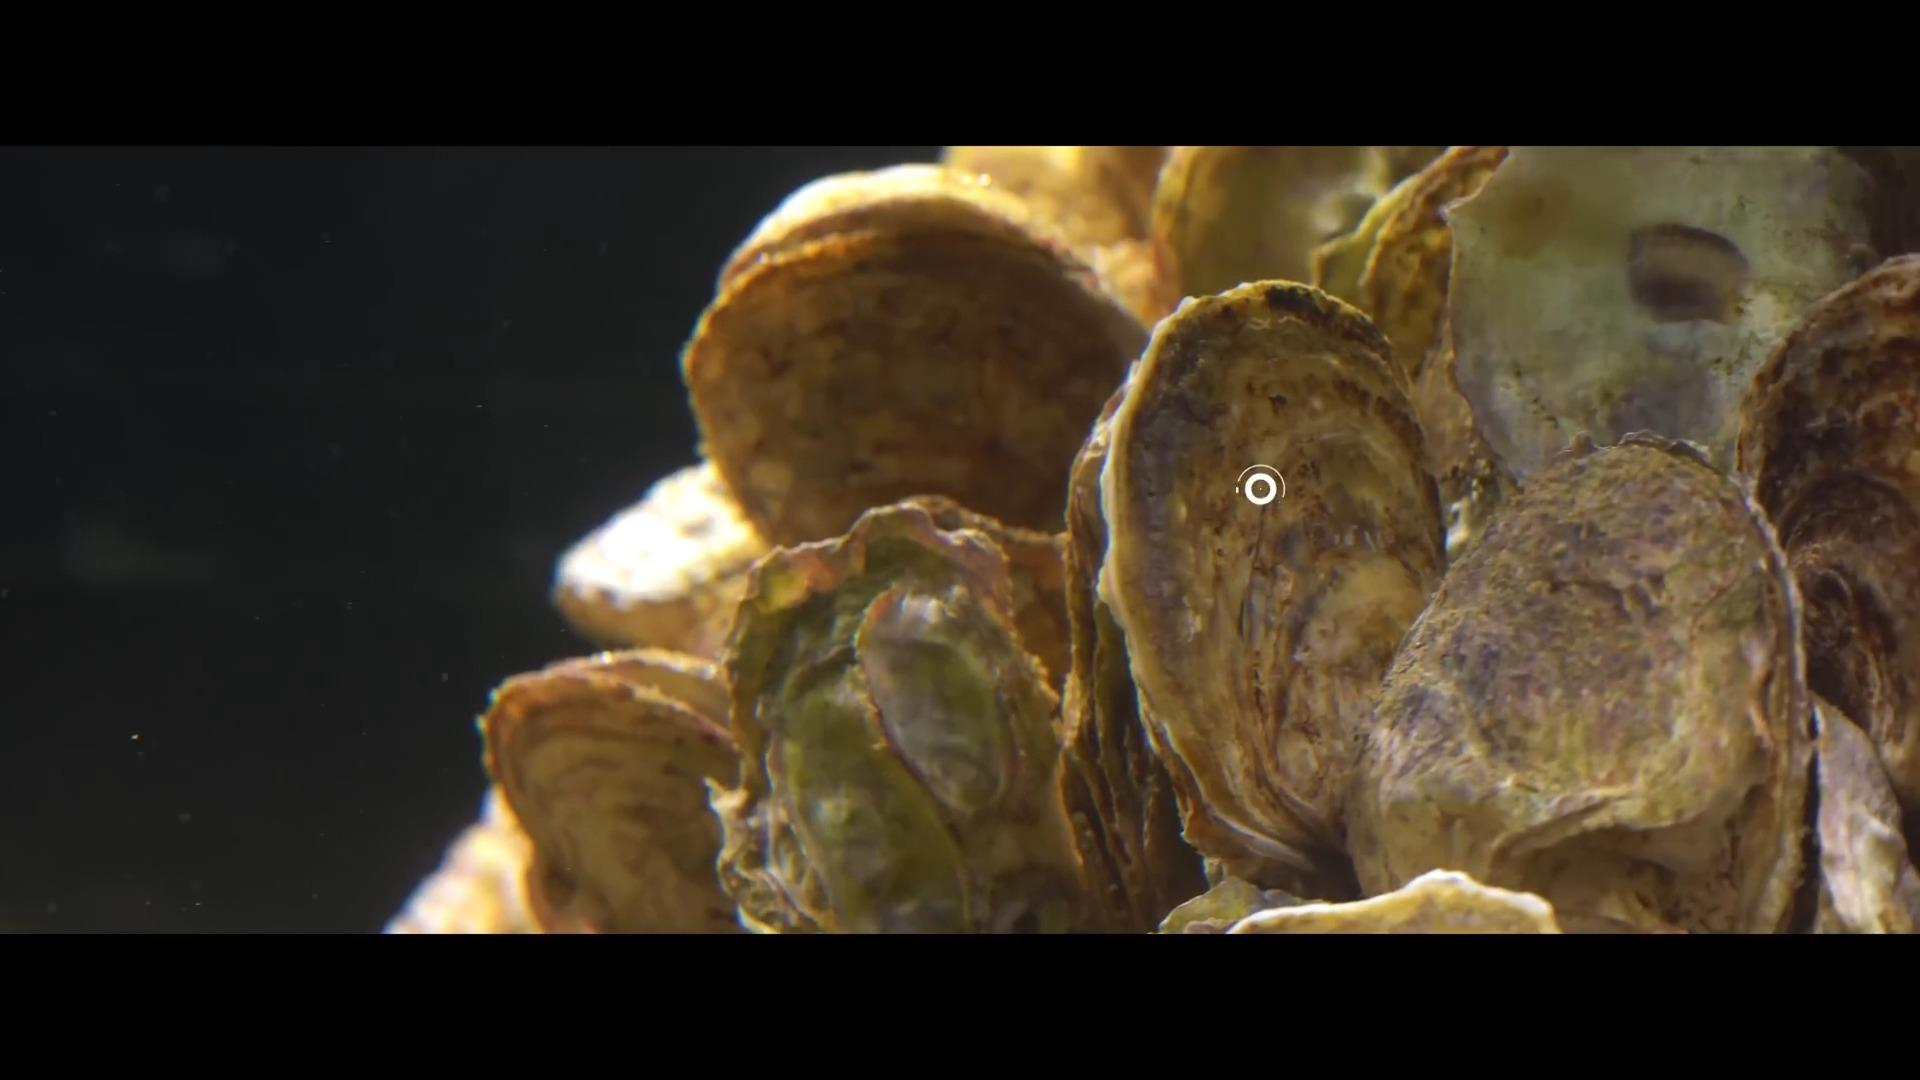Oyster: (1354, 439, 1807, 919), (1087, 280, 1440, 889), (691, 187, 1135, 549), (725, 505, 1095, 928), (1441, 149, 1882, 477), (1739, 249, 1919, 762), (485, 654, 750, 936), (491, 654, 737, 932), (1050, 378, 1142, 919), (1154, 145, 1414, 318), (554, 460, 774, 661), (1352, 152, 1485, 381), (1805, 709, 1919, 928), (1221, 869, 1564, 932), (376, 812, 541, 935)
